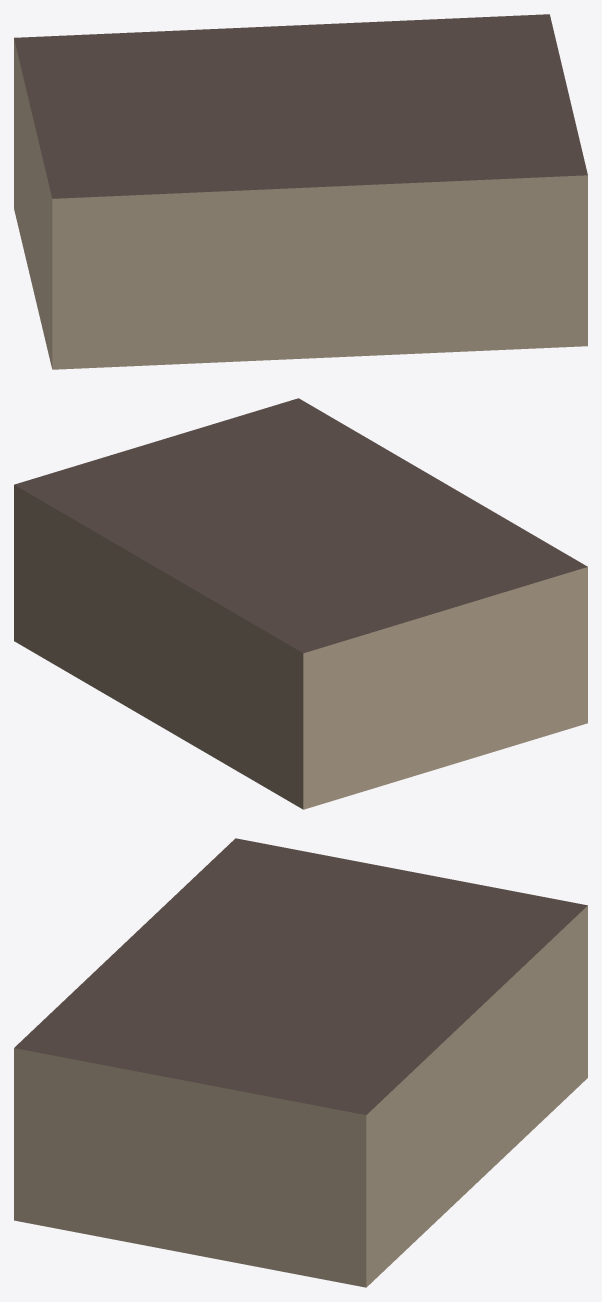
The picture shows the model from 3 angles, top to bottom: view 1: azimuth 30°, elevation 25°; view 2: azimuth 150°, elevation 25°; view 3: azimuth 270°, elevation 25°; orthographic projection. The views are drawn at different scales.
Visible parts, largest first — view 1: HP-w859082565; view 2: HP-w859082565; view 3: HP-w859082565.
Part boxes in pixels (x1=…): HP-w859082565: x1=14, y1=14, x2=587, y2=369; HP-w859082565: x1=14, y1=398, x2=587, y2=809; HP-w859082565: x1=14, y1=838, x2=587, y2=1287.
Bounding box in the file's own units: 30.99 × 9 × 27.14.
